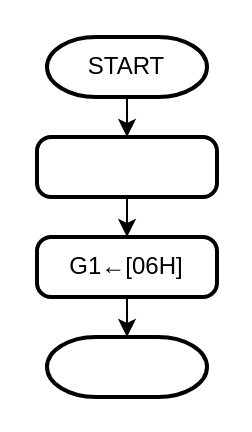
The diagram is 252 pixels wide and 432 high, and some of its shapes have lost their labels. Each missing label, with the box of its shape:
END: (44, 334, 208, 398)
G0←[05H]: (34, 134, 218, 198)
